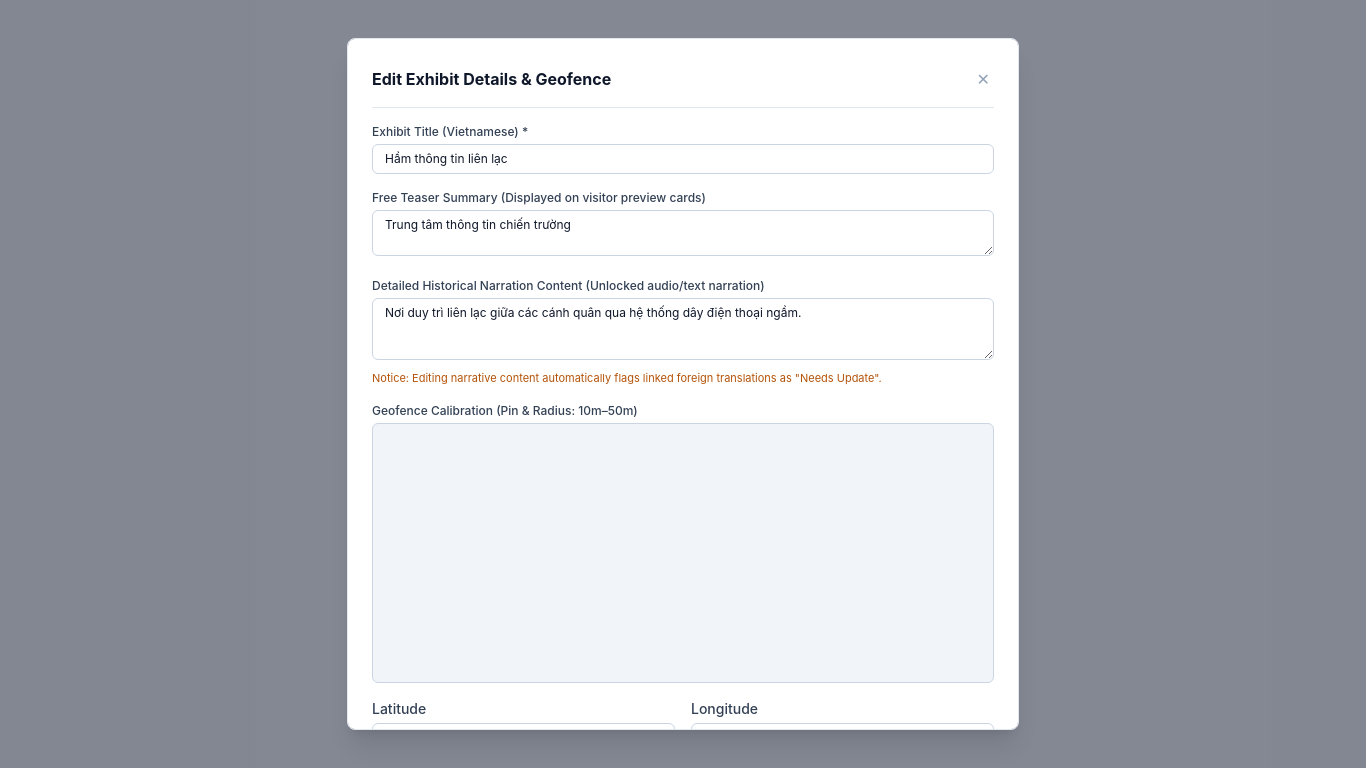
POIFormModal › validates required exhibit title and shows error
Clear the field labelled "Exhibit Title (Vietnamese) *": (683, 159) top-left (372, 144), bottom-right (994, 174)
(page scrolled)
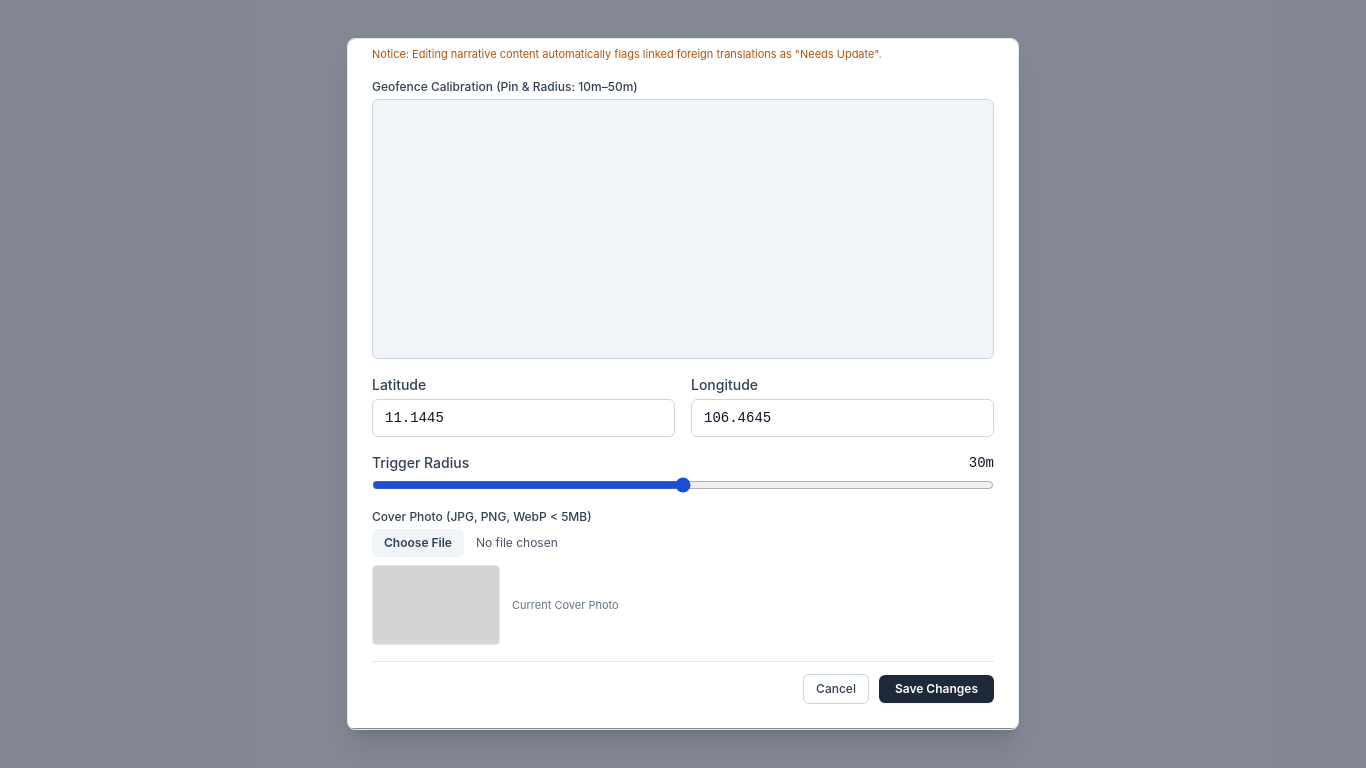
Click the button "Save Changes": (936, 689) top-left (879, 675), bottom-right (994, 703)
(page scrolled)
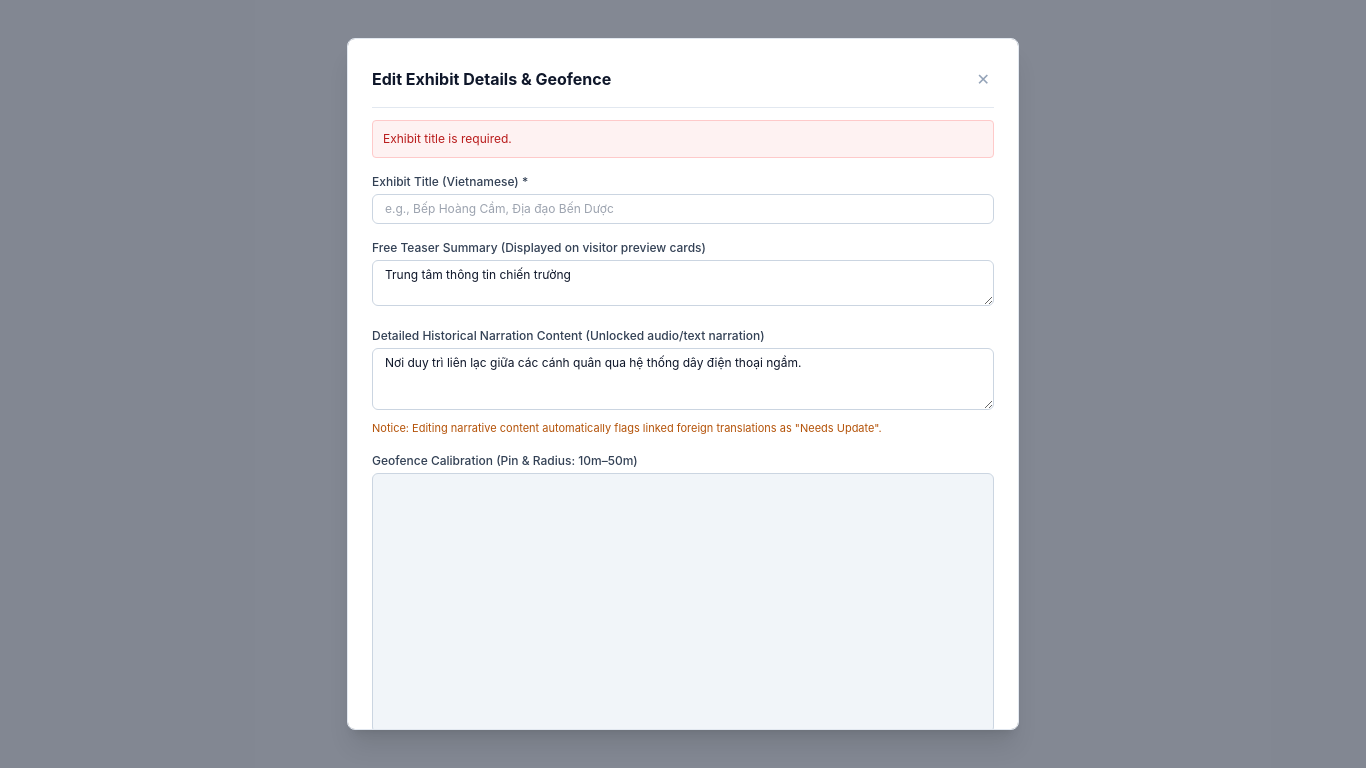
Expected: the message shows "Exhibit title is required", top-left (383, 131), bottom-right (512, 146)
